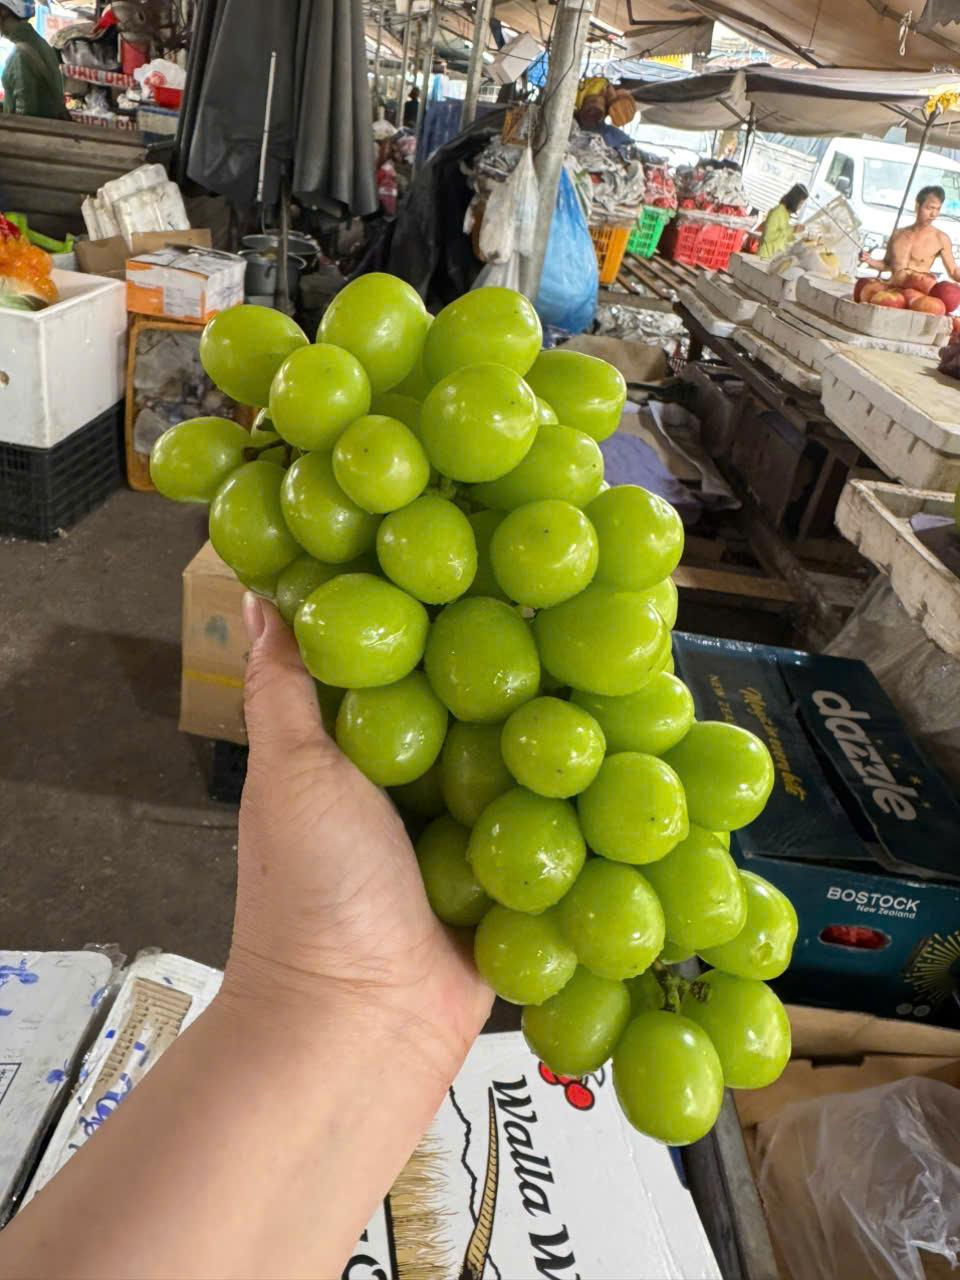grape: (154, 250, 800, 1150)
